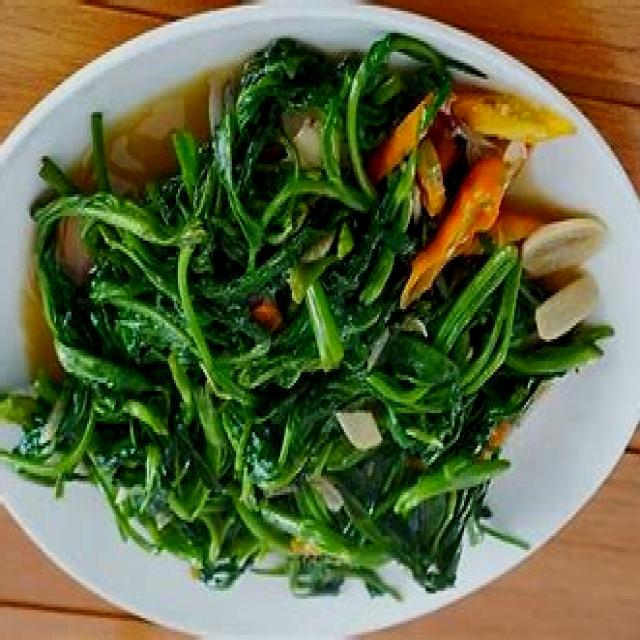tumis kangkung: (0, 25, 619, 602)
